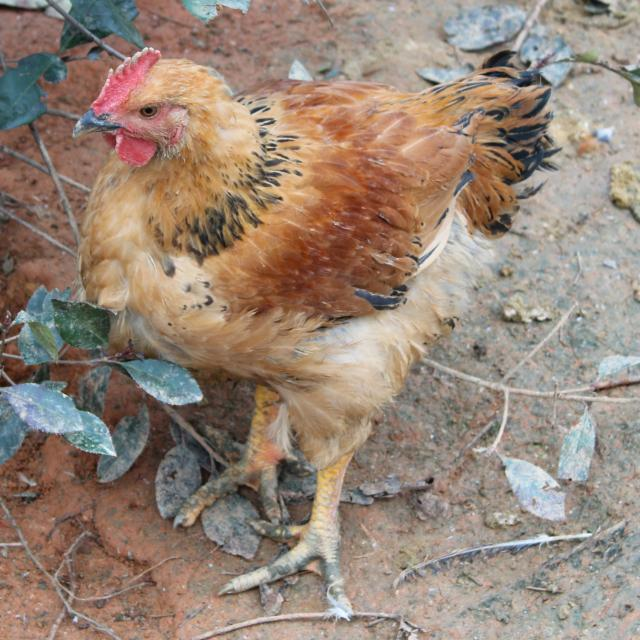hen: (72, 48, 556, 615)
